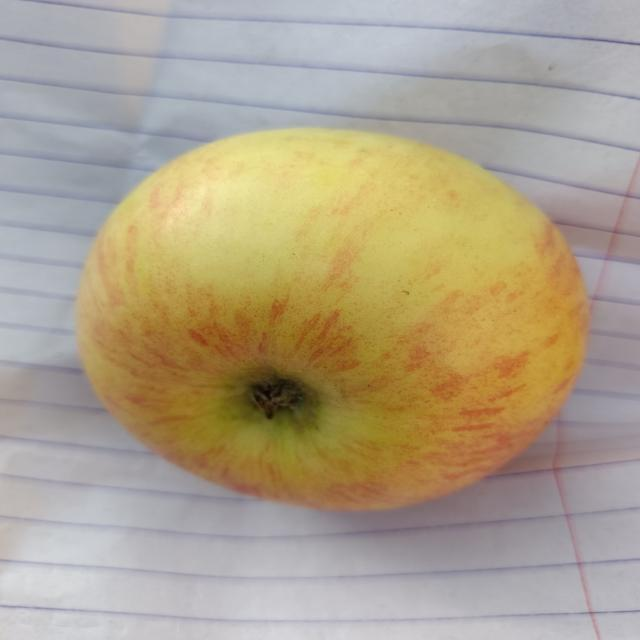Fresh Apple: (76, 128, 590, 518)
